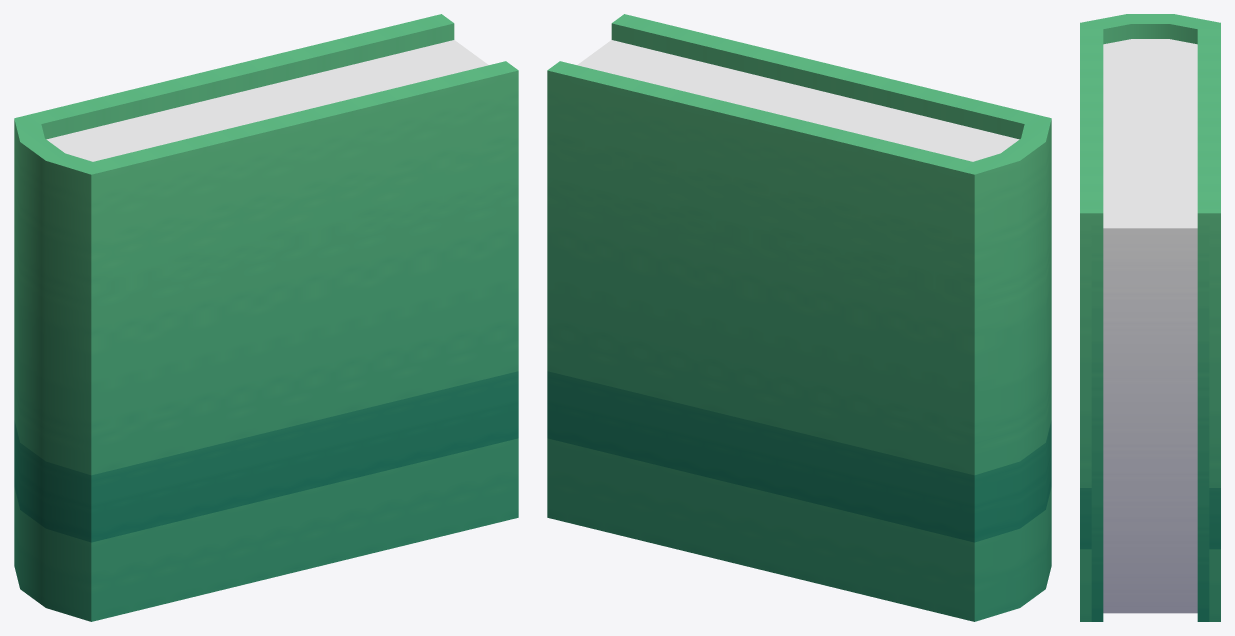
File: book-2.fbx
The picture shows the model from 3 angles, left to right: view 1: azimuth 30°, elevation 25°; view 2: azimuth 150°, elevation 25°; view 3: azimuth 270°, elevation 25°; orthographic projection. The views are drawn at different scales.
Visible parts, largest first — view 1: book-2; view 2: book-2; view 3: book-2.
Part boxes in pixels (<box>): book-2: <box>14,14,518,621</box>; book-2: <box>547,14,1051,621</box>; book-2: <box>1080,14,1220,621</box>.
Bounding box in the file's own units: 0.1293 × 0.0386 × 0.1236.
